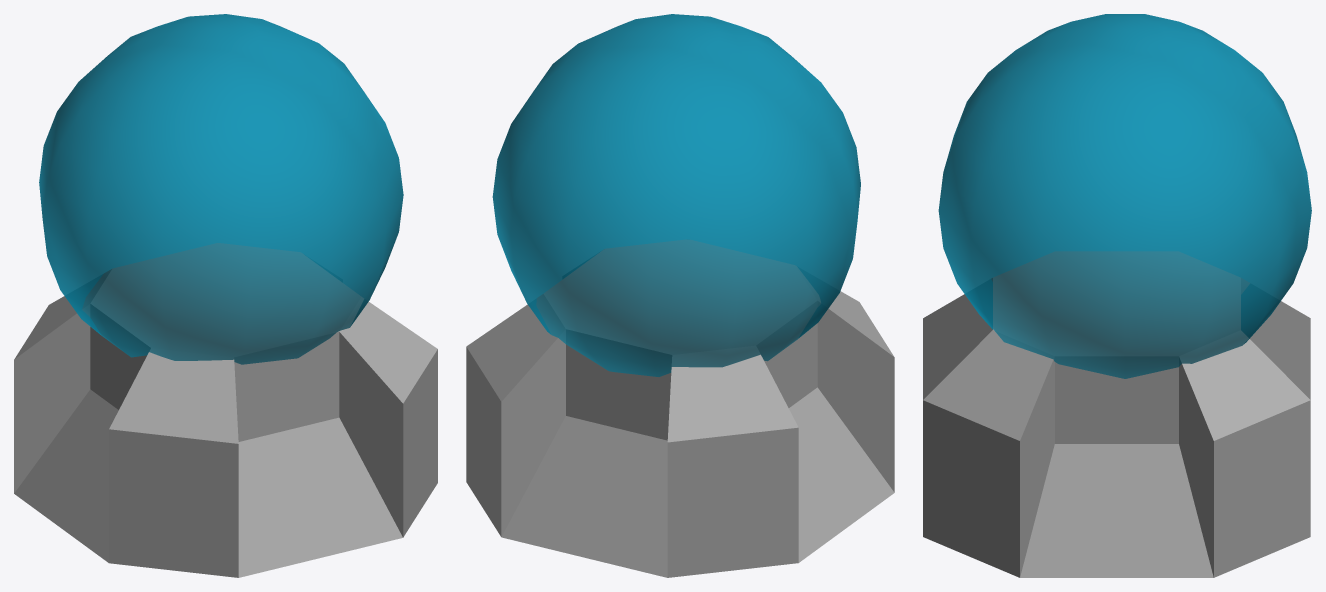
File: Kula.fbx
The picture shows the model from 3 angles, left to right: view 1: azimuth 30°, elevation 25°; view 2: azimuth 150°, elevation 25°; view 3: azimuth 270°, elevation 25°; orthographic projection. The views are drawn at different scales.
Visible parts, largest first — view 1: Kuka1; view 2: Kuka1; view 3: Kuka1.
Part boxes in pixels (bbox=[...]): Kuka1: bbox=[14, 14, 437, 577]; Kuka1: bbox=[466, 14, 894, 577]; Kuka1: bbox=[923, 14, 1311, 577].
Size of the model in its own units: 0.9369 by 1.24 by 0.9397.
